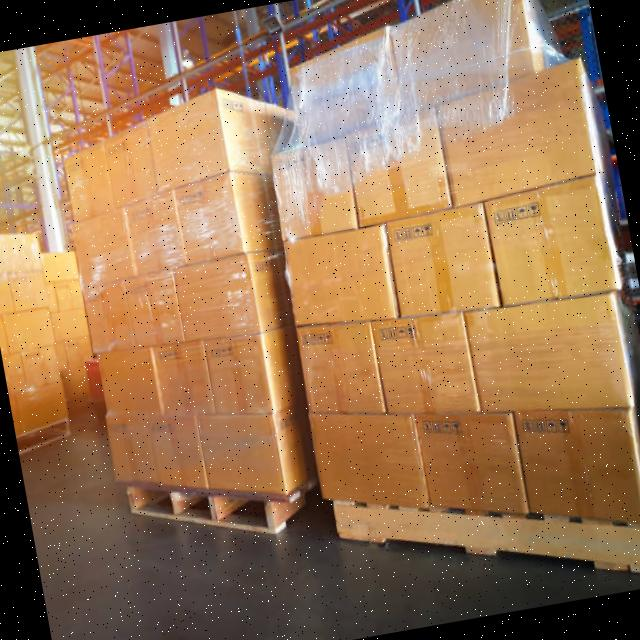Wooden-Pallets: (320, 487, 640, 572), (119, 467, 304, 556)
